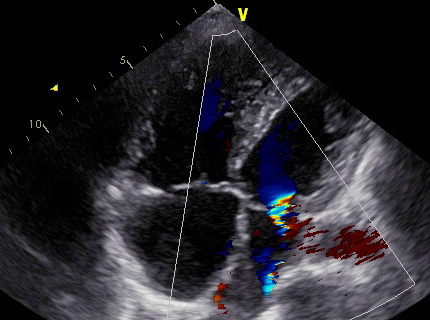MR: (250, 191, 305, 236)
